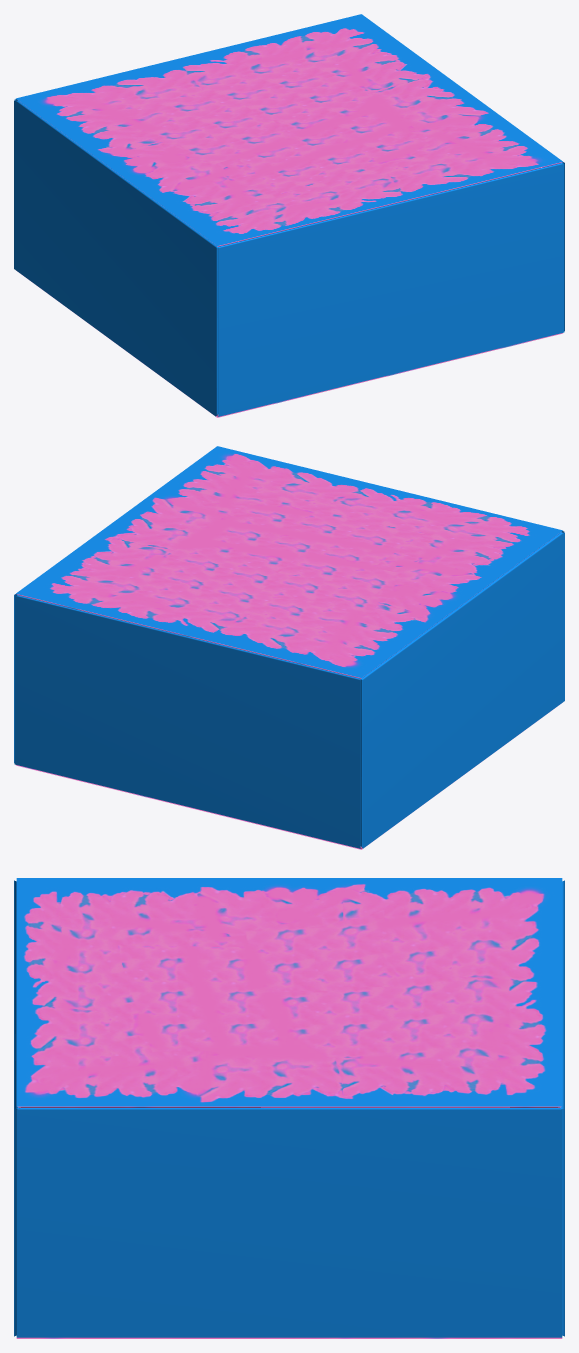
The model's file is PLF0110059.fbx.
3 views of the same model, one above another, from view 1: azimuth 30°, elevation 25°; view 2: azimuth 150°, elevation 25°; view 3: azimuth 270°, elevation 25° (orthographic). The views are drawn at different scales.
Visible parts, largest first — view 1: smPLF0110059; view 2: smPLF0110059; view 3: smPLF0110059.
Boxes of the visible parts, bbox=[...] form: smPLF0110059: bbox=[14, 14, 564, 417]; smPLF0110059: bbox=[14, 446, 564, 849]; smPLF0110059: bbox=[14, 878, 564, 1338].
Size of the model in its own units: 239 by 112 by 241.
Materials: 1 (1 with a texture image).
